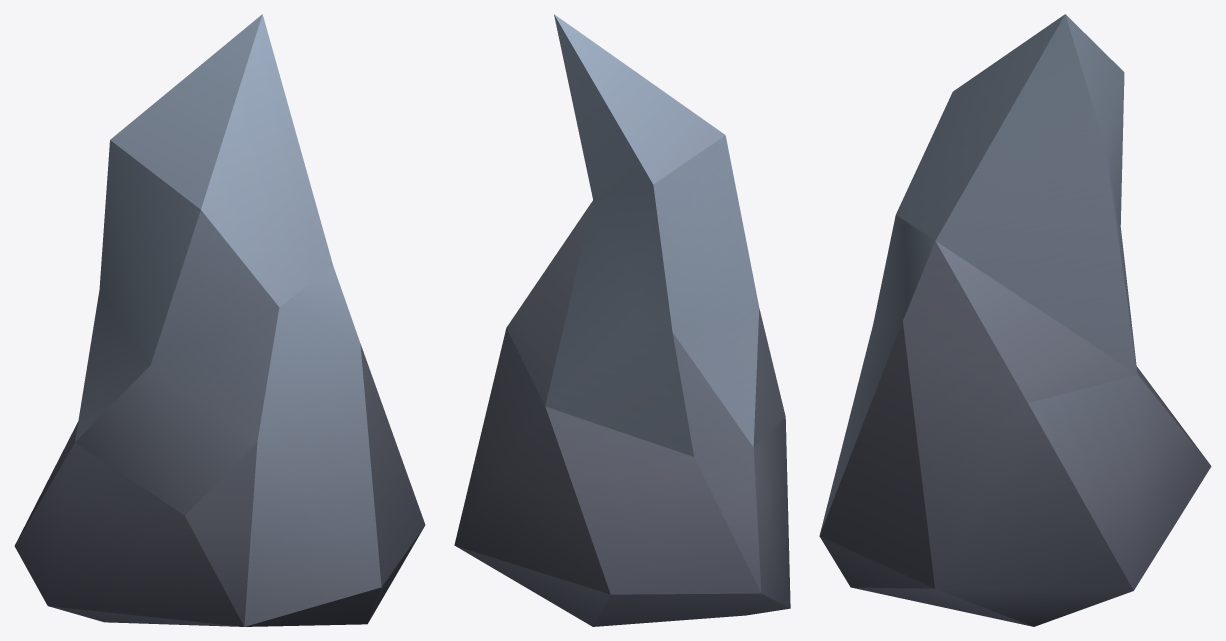
File: SM_Rock_05.fbx
The picture shows the model from 3 angles, left to right: view 1: azimuth 30°, elevation 25°; view 2: azimuth 150°, elevation 25°; view 3: azimuth 270°, elevation 25°; orthographic projection. The views are drawn at different scales.
Parts seen in each view (by area): view 1: Rock.004; view 2: Rock.004; view 3: Rock.004.
Part boxes in pixels (box(x1,y1,x2,y2)): Rock.004: box(14, 14, 425, 626); Rock.004: box(454, 14, 790, 626); Rock.004: box(819, 14, 1211, 626).
Bounding box in the file's own units: 262 × 425 × 256.
